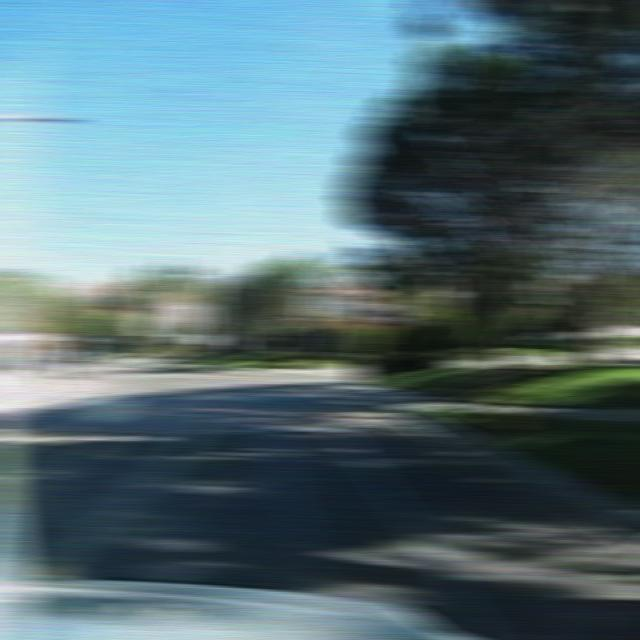stop: (360, 307, 390, 329)
